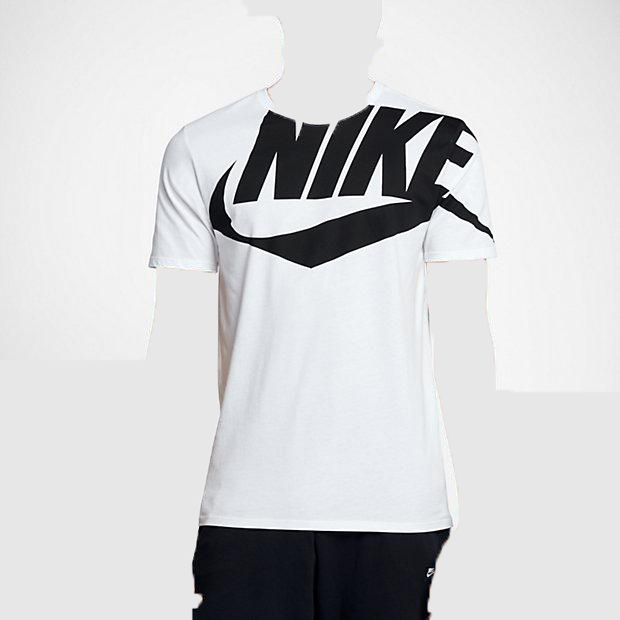teeshirt: (137, 74, 520, 542)
